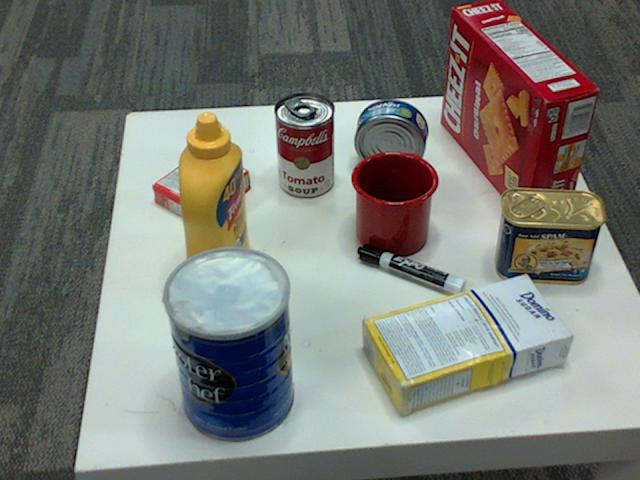cracker_box: (440, 0, 598, 220)
gelatin_box: (150, 146, 249, 223)
large_marker: (358, 244, 466, 300)
master_chef_can: (160, 249, 292, 444)
mug: (348, 150, 437, 255)
mustard_bottle: (176, 112, 249, 297)
potted_meat_can: (493, 188, 604, 285)
sugar_box: (358, 273, 570, 414)
tomato_soup_can: (273, 93, 334, 198)
tuna_fish_can: (353, 99, 427, 173)
